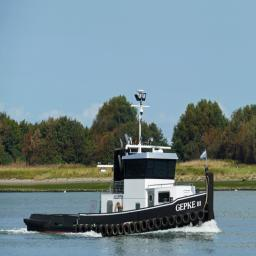tugboat: (23, 89, 218, 243)
